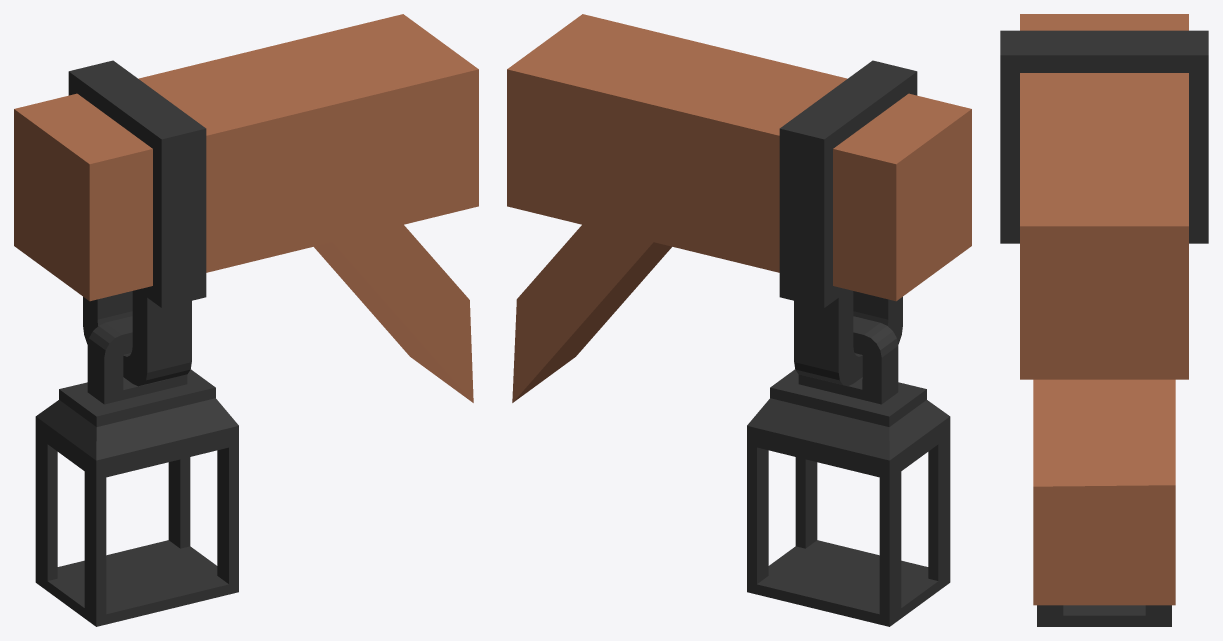
The model's file is Wall_Lamp.fbx.
The picture shows the model from 3 angles, left to right: view 1: azimuth 30°, elevation 25°; view 2: azimuth 150°, elevation 25°; view 3: azimuth 270°, elevation 25°; orthographic projection. The views are drawn at different scales.
Visible parts, largest first — view 1: Wall_Lamp; view 2: Wall_Lamp; view 3: Wall_Lamp.
Part boxes in pixels (<box>): Wall_Lamp: <box>14,14,478,626</box>; Wall_Lamp: <box>507,14,971,626</box>; Wall_Lamp: <box>1000,14,1208,626</box>.
Size of the model in its own units: 2.38 by 2.84 by 0.983.
